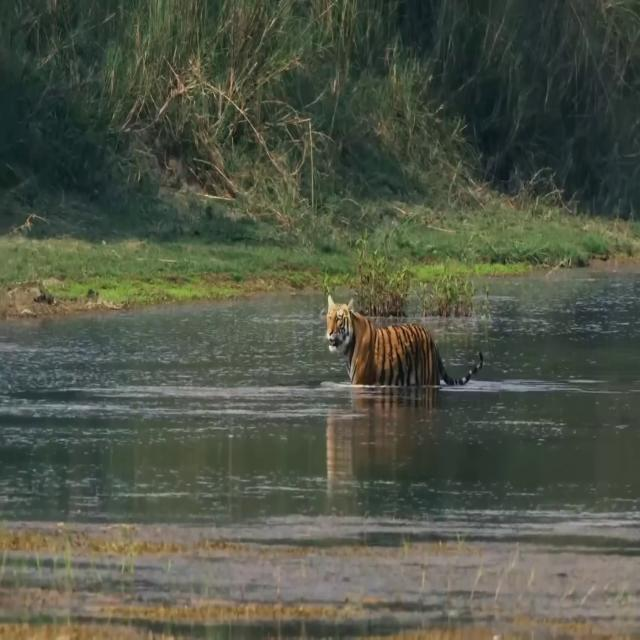tiger: (327, 294, 483, 386)
